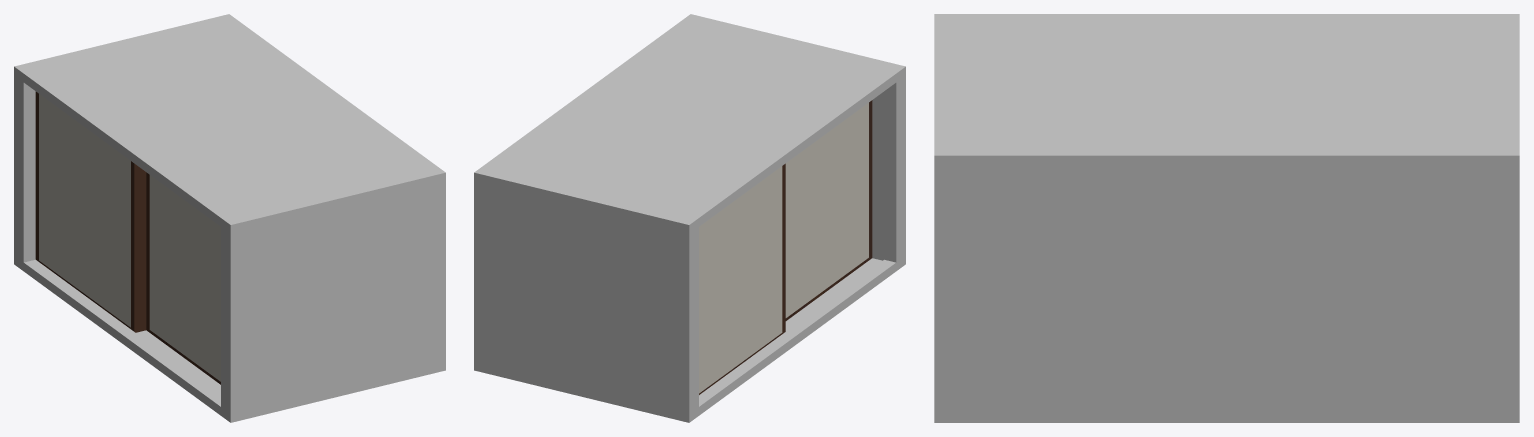
Rendered from novoarmario.fbx.
3 views of the same model, side by side, from view 1: azimuth 30°, elevation 25°; view 2: azimuth 150°, elevation 25°; view 3: azimuth 270°, elevation 25° (orthographic). The views are drawn at different scales.
Visible parts, largest first — view 1: Cube.005, portaesquerda, portadireita; view 2: Cube.005, portaesquerda, portadireita; view 3: Cube.005.
Part boxes in pixels (left/top/right/bottom): Cube.005: left=14, top=14, right=445, bottom=422; portaesquerda: left=35, top=91, right=146, bottom=332; portadireita: left=146, top=172, right=220, bottom=384; Cube.005: left=474, top=14, right=905, bottom=422; portaesquerda: left=699, top=163, right=785, bottom=394; portadireita: left=785, top=100, right=872, bottom=320; Cube.005: left=934, top=14, right=1519, bottom=422.
Size of the model in its own units: 5 by 8.72 by 4.39.
